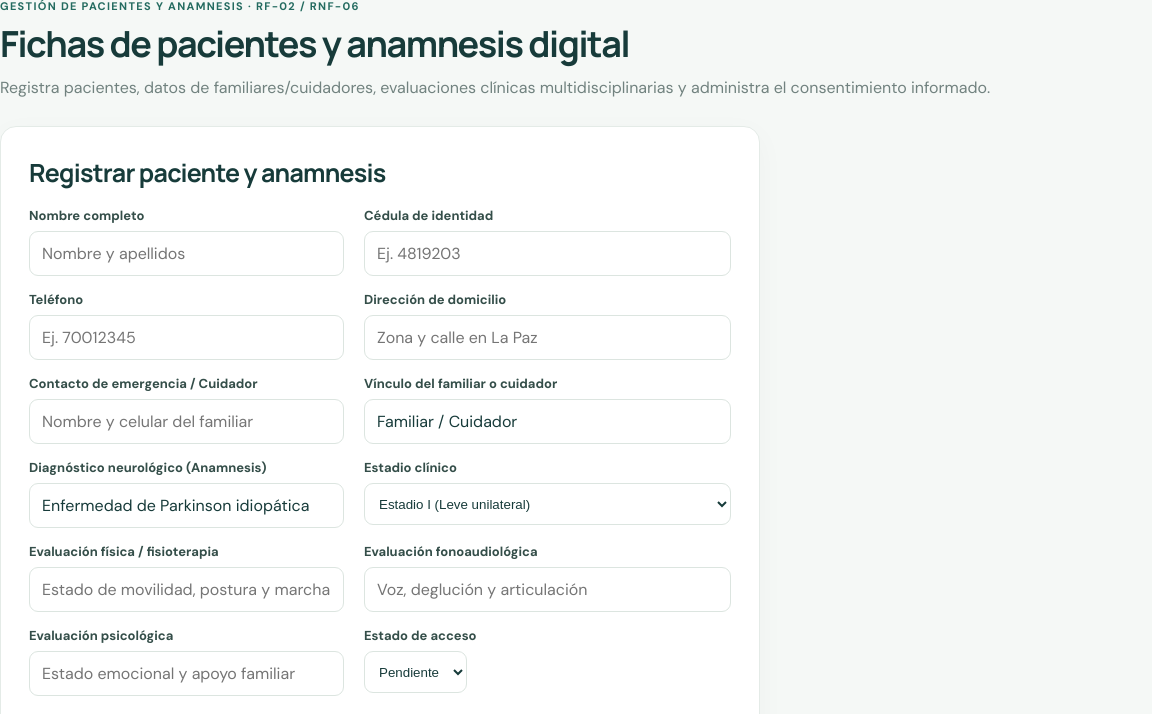
Test: SCRUM-68: PatientsView — listado y formulario de pacientes › registra un paciente desde el formulario y lo muestra en el listado
In the field labelled "Nombre completo": (186, 254) [29, 231, 344, 276], type "Rosa Mamani"
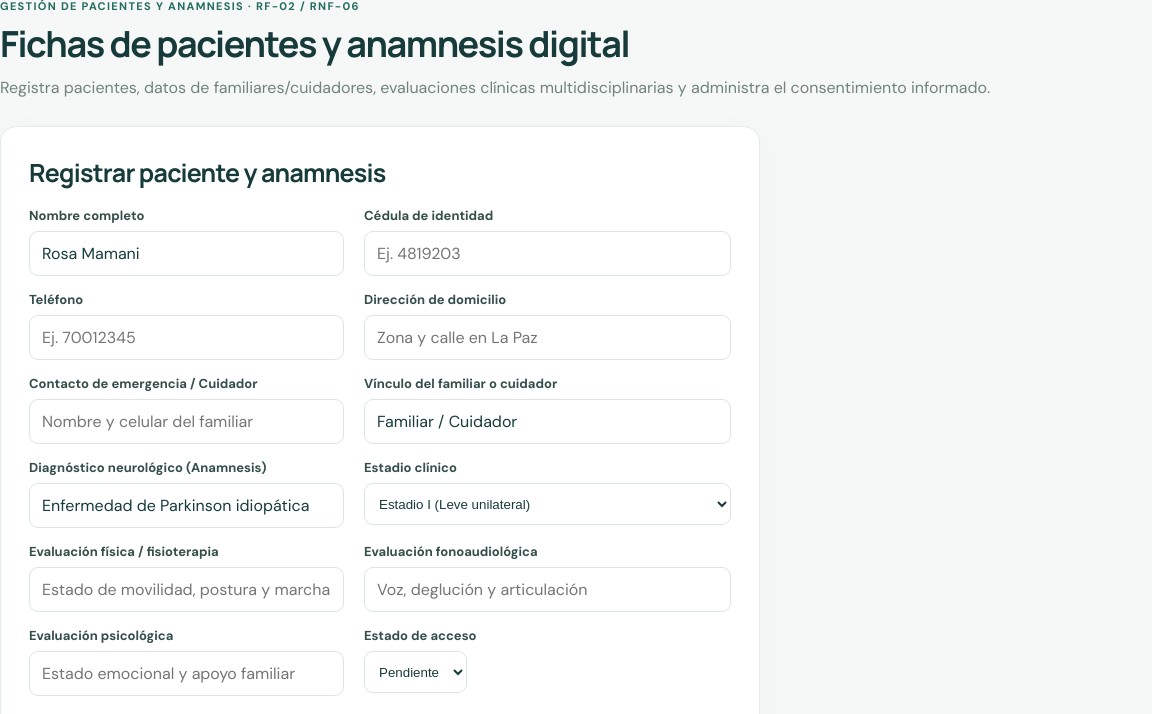
In the field labelled "Cédula de identidad": (548, 254) [364, 231, 731, 276], type "6849201"
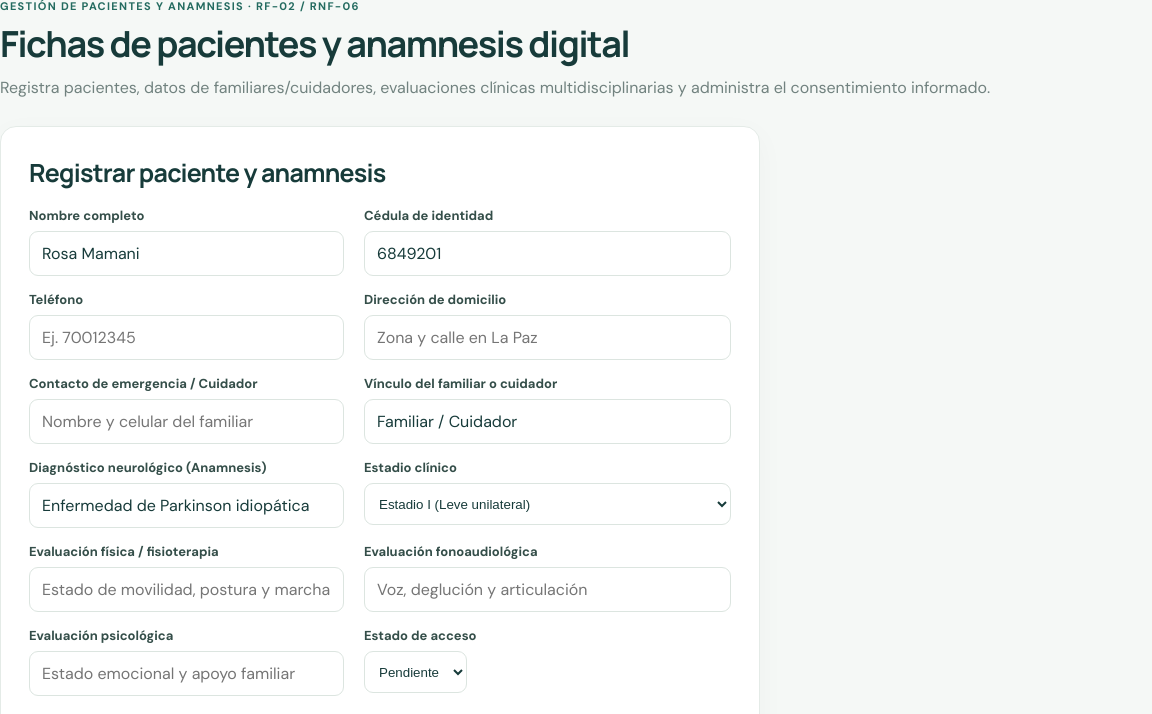
In the field labelled "Teléfono": (186, 338) [29, 315, 344, 360], type "70112233"
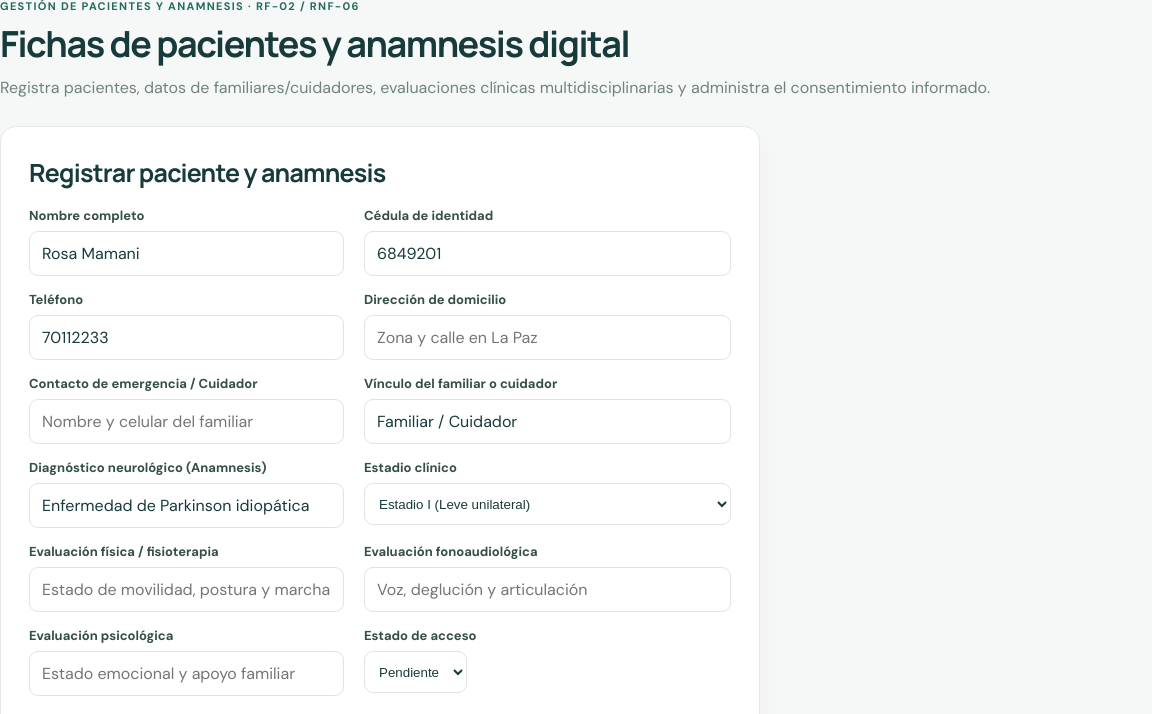
In the field labelled "Contacto de emergencia / Cuidador": (186, 422) [29, 399, 344, 444], type "Pedro Mamani"
(page scrolled)
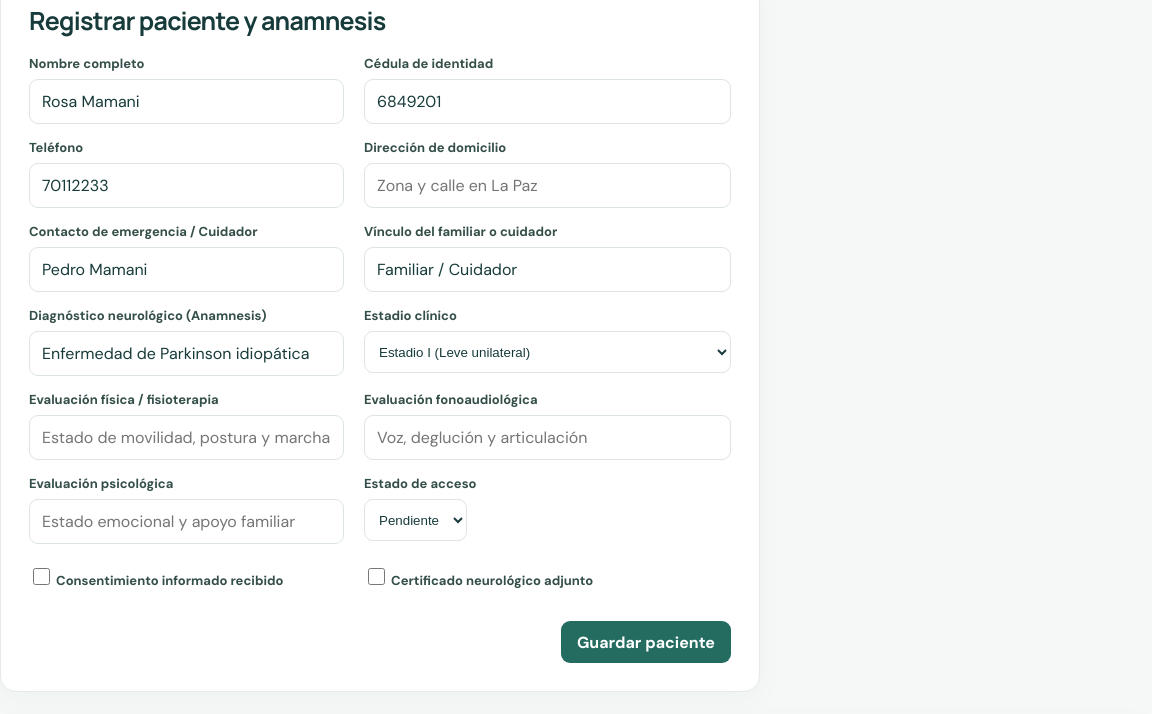
Submit the form, box [29, 45, 731, 663]
(page scrolled)
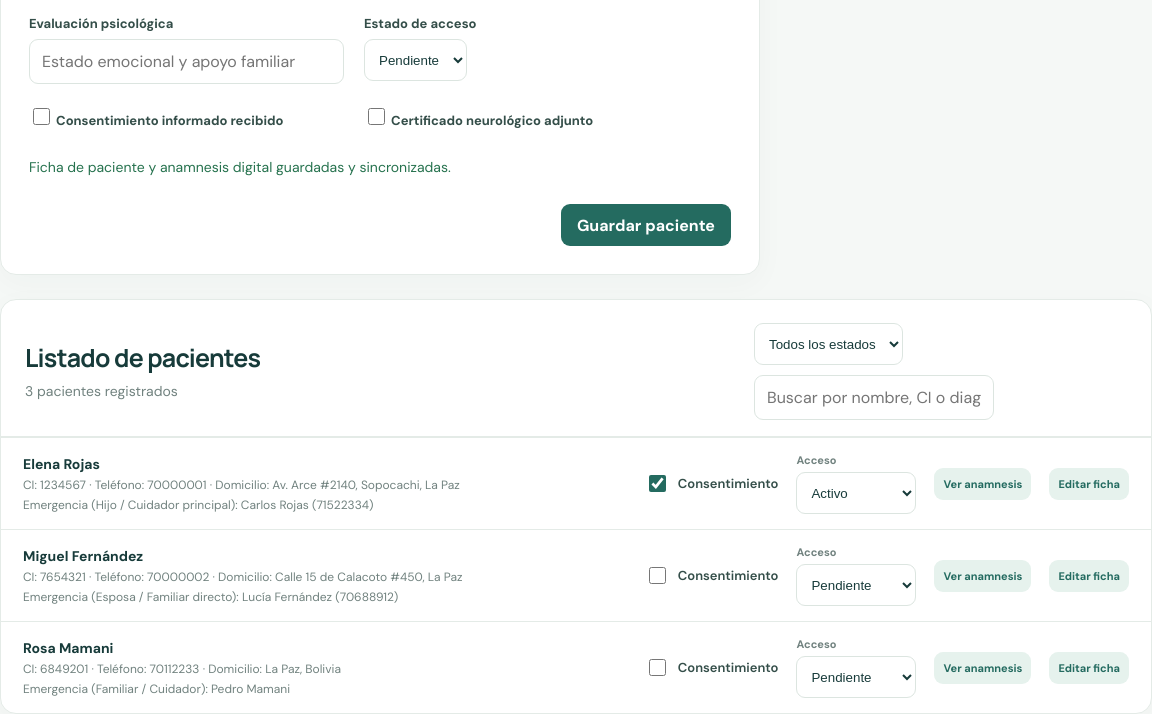
Expected: the message with class "success-message" shows "guardadas", [29, 158, 451, 176]
Expected: the element that starts with "Rosa Mamani" is shown, [1, 621, 1151, 713]
